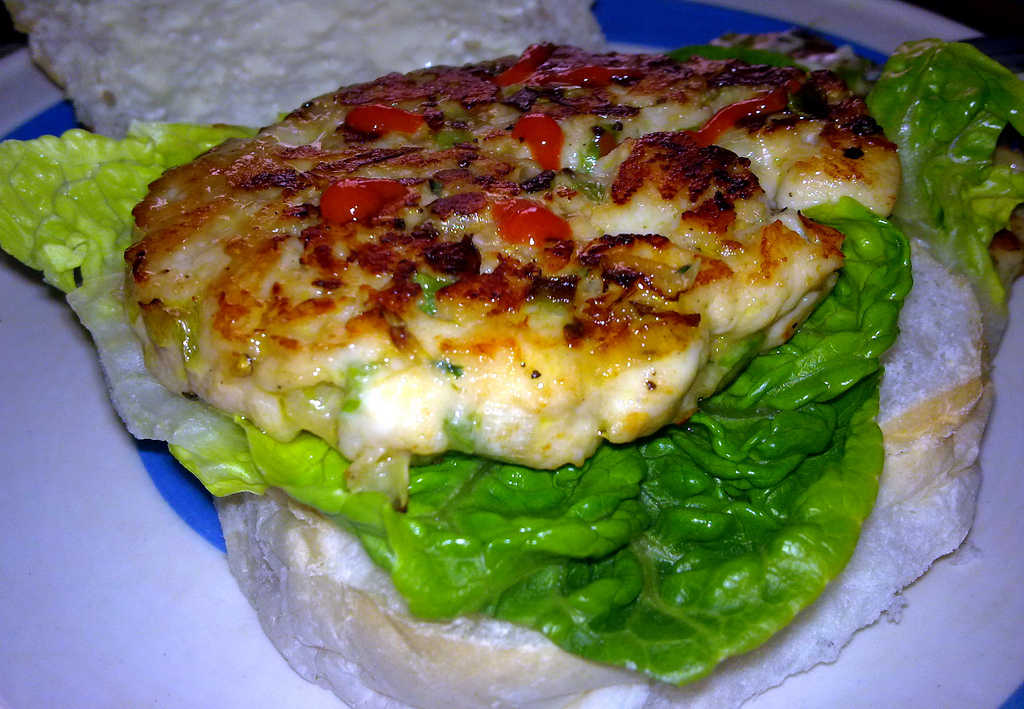chopped lettuce: (422, 418, 887, 673)
